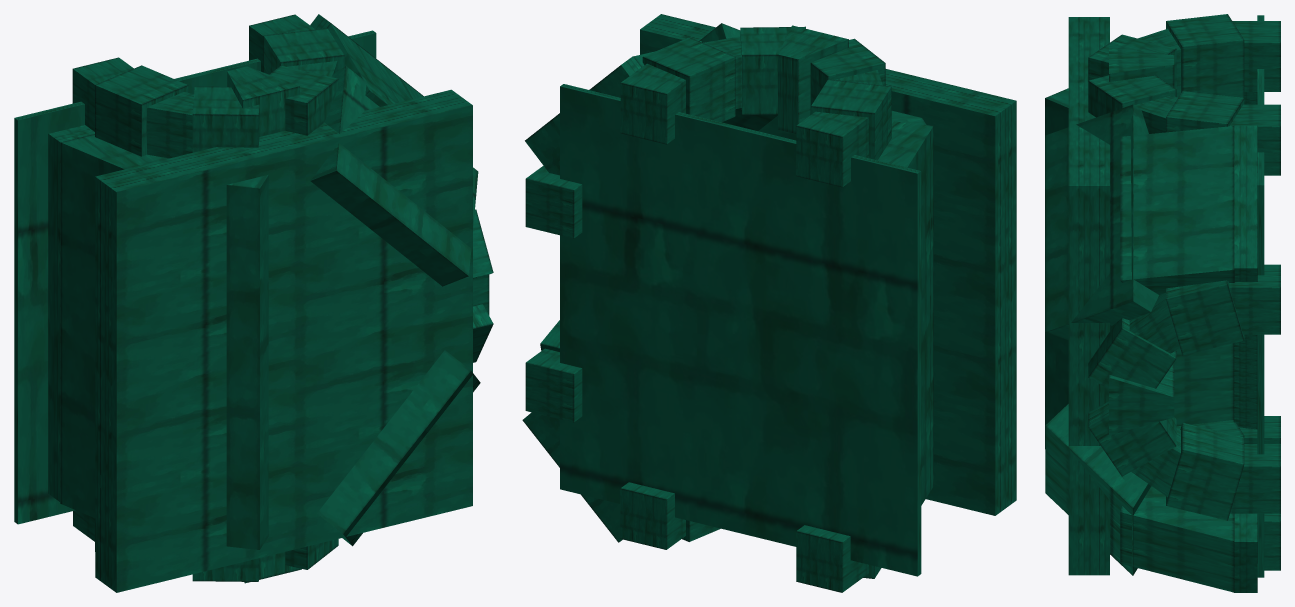
Rendered from crossing3dp_wtf.obj.
3 renders of one model, left to right at view 1: azimuth 30°, elevation 25°; view 2: azimuth 150°, elevation 25°; view 3: azimuth 270°, elevation 25°, orthographic. The views are drawn at different scales.
Visible parts, largest first — view 1: group2; view 2: group2; view 3: group2.
Boxes of the visible parts, <box> form: group2: <box>14,14,493,592</box>; group2: <box>522,14,1016,592</box>; group2: <box>1045,14,1280,592</box>.
Size of the model in its own units: 569 by 660 by 298.
